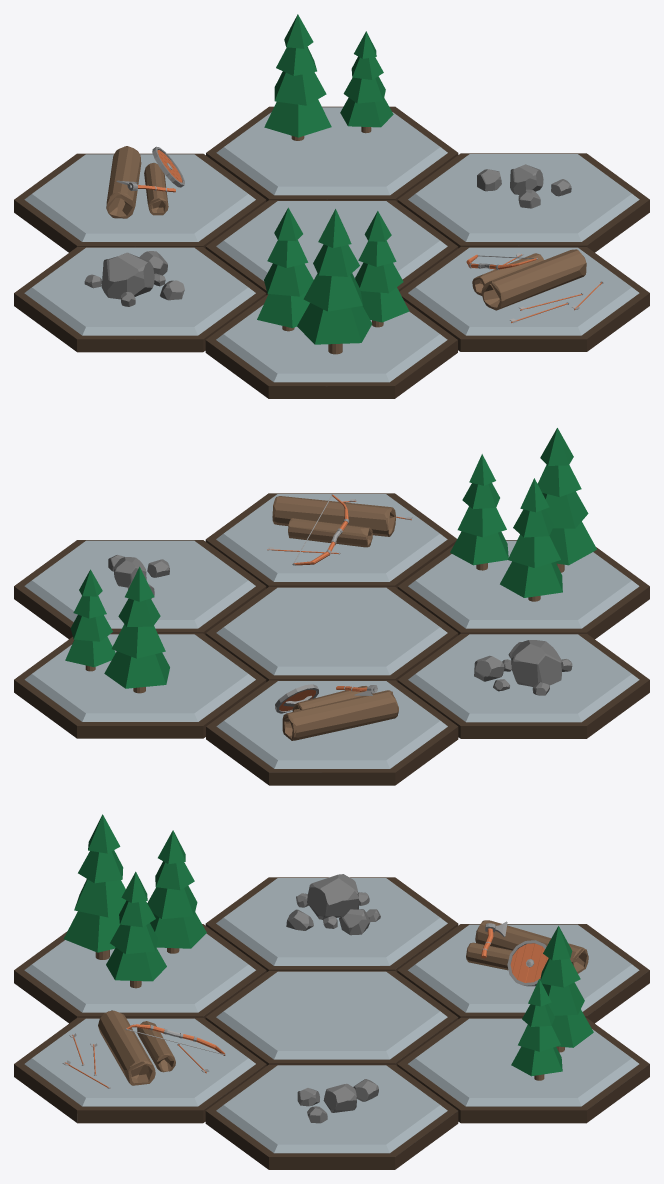
The model's file is WinterScene.gltf.
The picture shows the model from 3 angles, top to bottom: view 1: azimuth 30°, elevation 25°; view 2: azimuth 150°, elevation 25°; view 3: azimuth 270°, elevation 25°; orthographic projection.
Parts seen in each view (by area): view 1: floor, Trees, Rocks, Shield; view 2: floor, Trees, Rocks, Shield, Bow; view 3: floor, Trees, Rocks, Shield, Bow.
Part boxes in pixels (x1,y1,x2,y2): floor: (14,106,649,398); Trees: (106,14,586,354); Rocks: (84,164,571,306); Shield: (152,146,184,187); floor: (14,493,649,785); Trees: (65,428,596,740); Rocks: (108,555,572,695); Shield: (275,684,318,713); Bow: (292,494,348,565); floor: (14,877,649,1169); Trees: (63,814,593,1085); Rocks: (286,874,380,1123); Shield: (507,940,548,986); Bow: (125,1024,225,1055).
Bounding box in the file's own units: 27.63 × 7.45 × 26.54.
4 materials, 3 textured.
